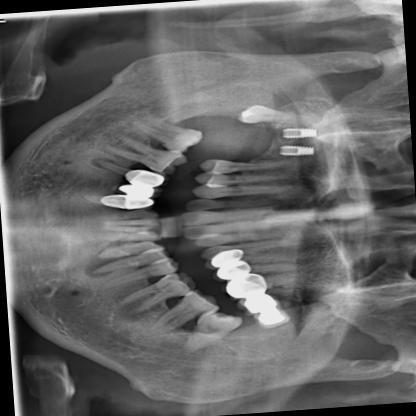Bicon: (275, 142, 316, 159), (277, 125, 322, 140)
